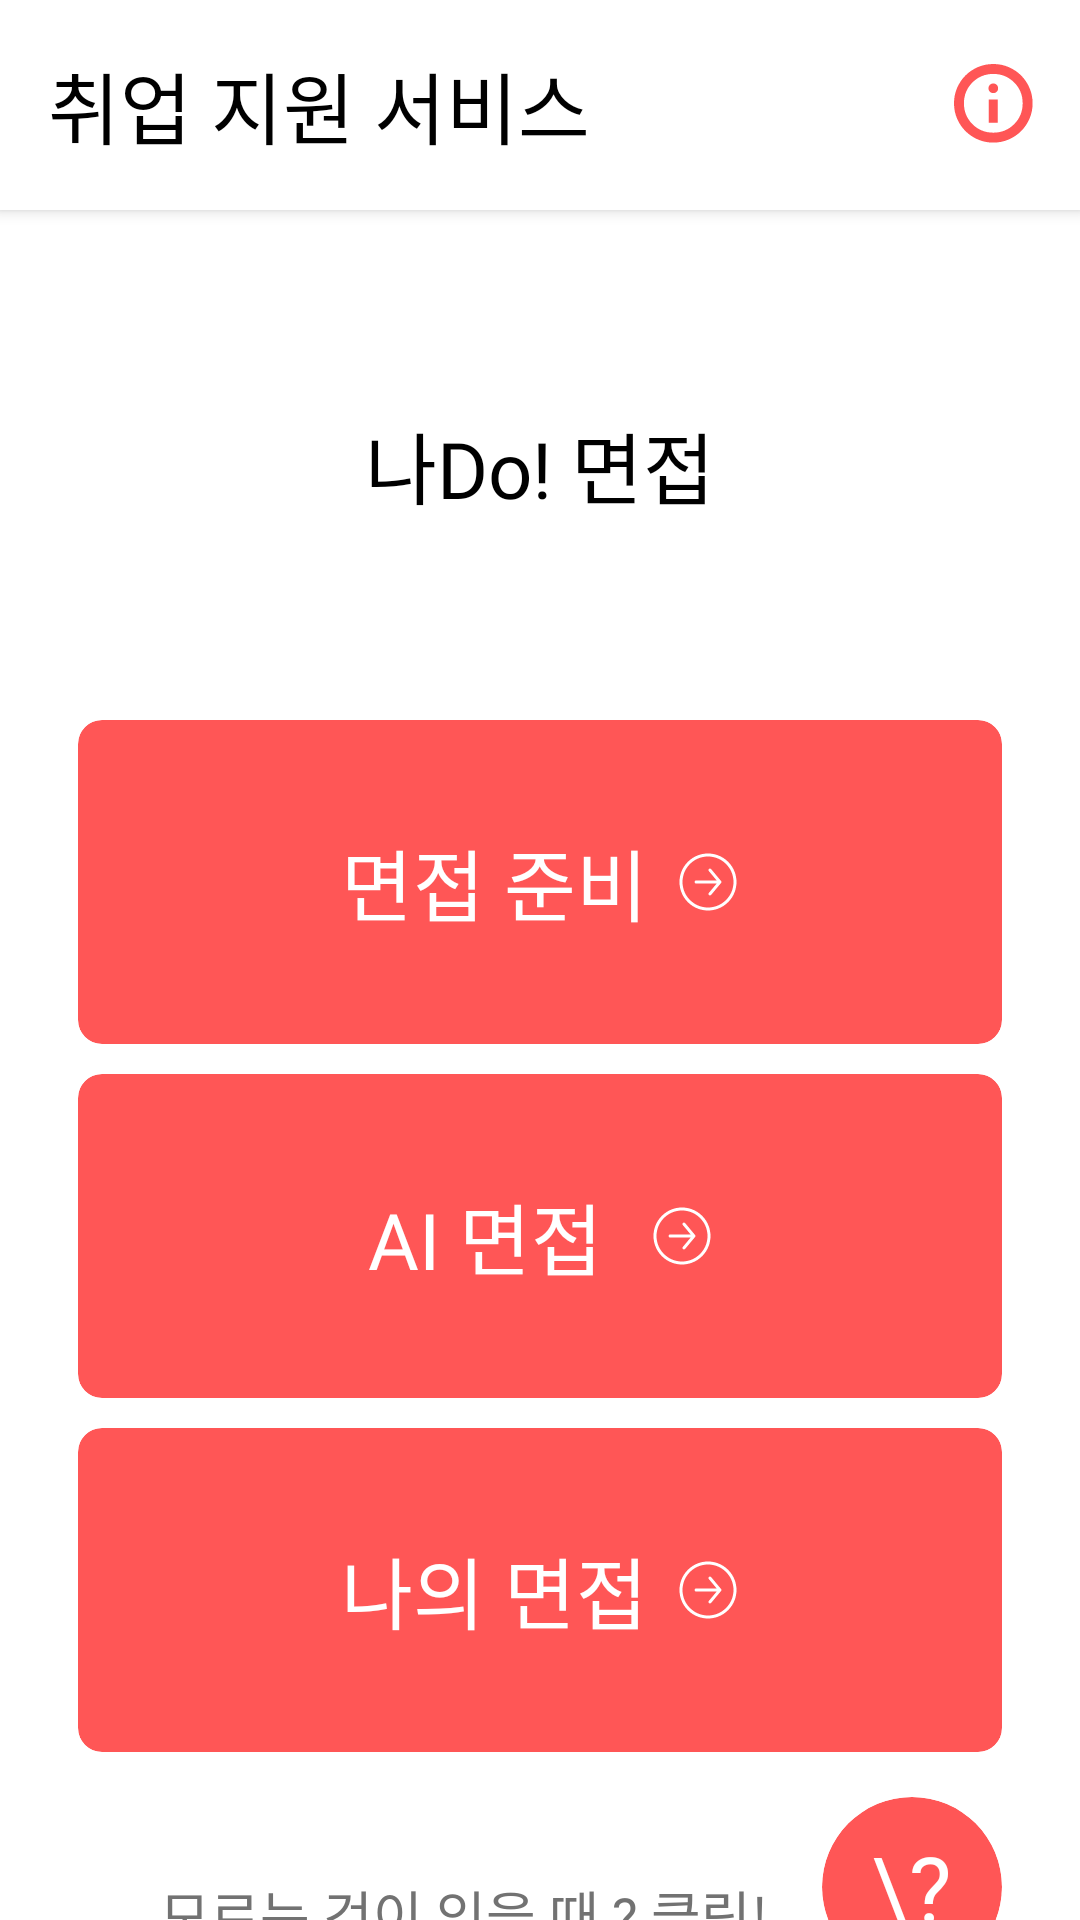

Icon bounding boxes for this 1080x1920 phone screenshot, format box(x1, y1, x2, y2):
info: box(954, 64, 1033, 143)
next: box(679, 853, 737, 911), box(653, 1207, 711, 1265), box(679, 1561, 737, 1619)
